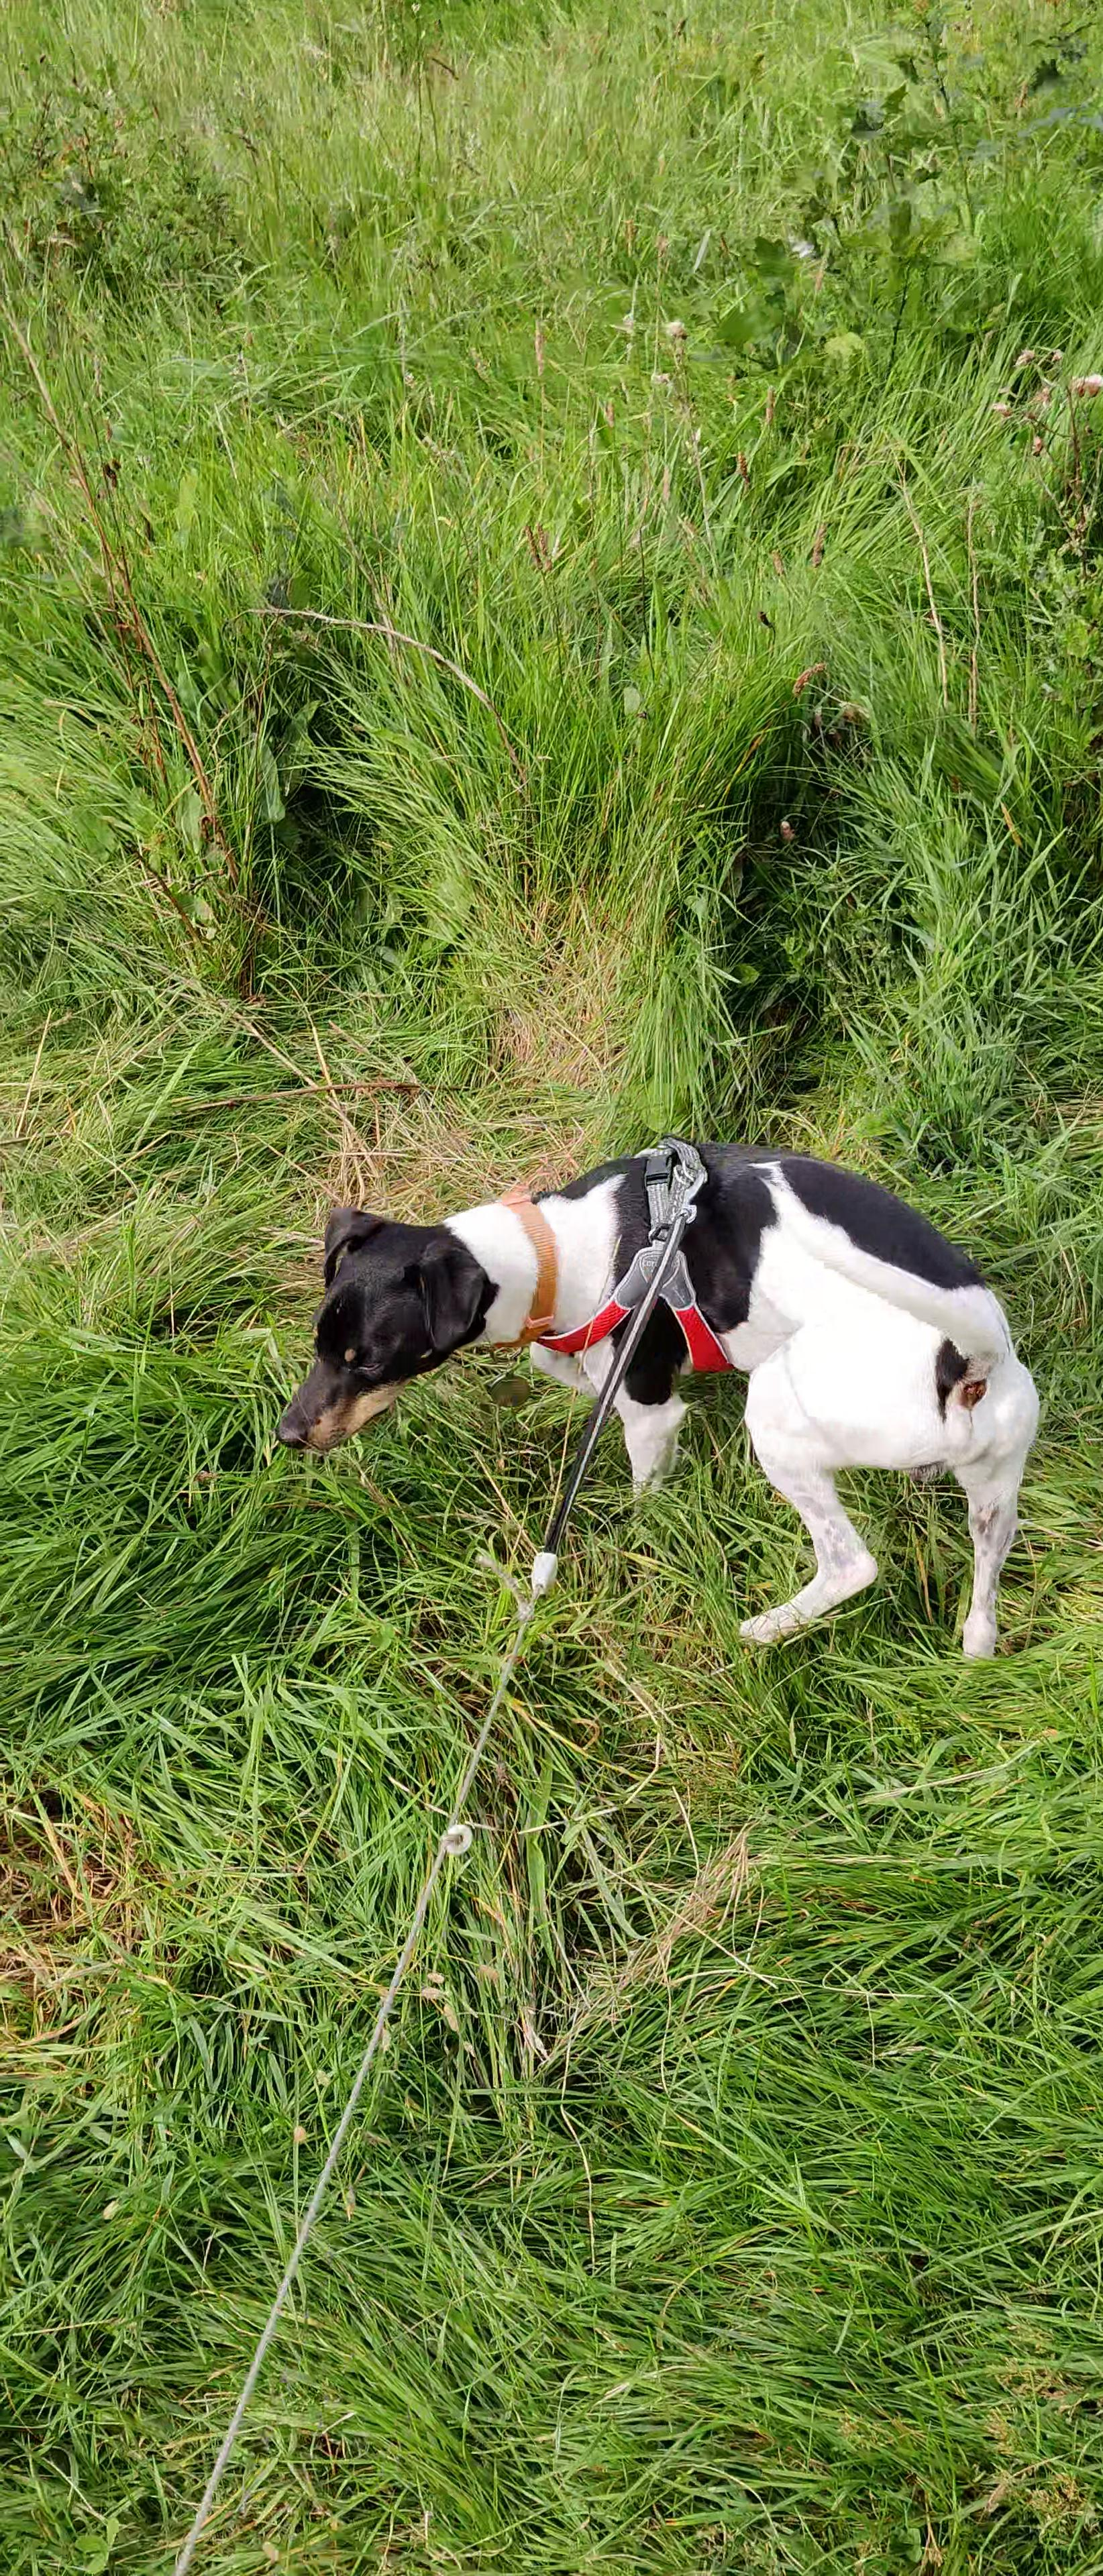Dog: (266, 1124, 1052, 1664)
